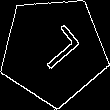L_SW: (26, 22, 82, 79)
